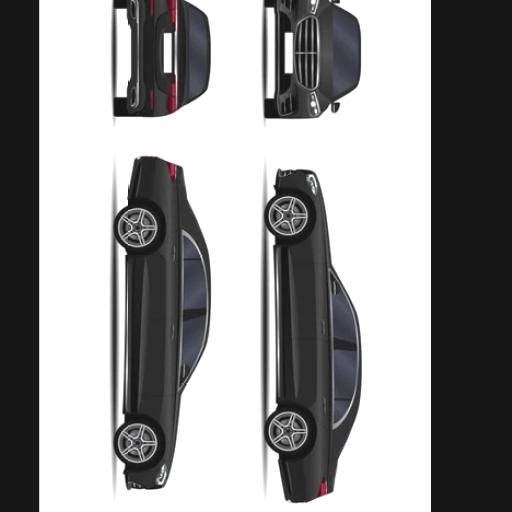sedan: (115, 159, 210, 489), (266, 171, 360, 502), (266, 0, 361, 118), (115, 0, 210, 117)
